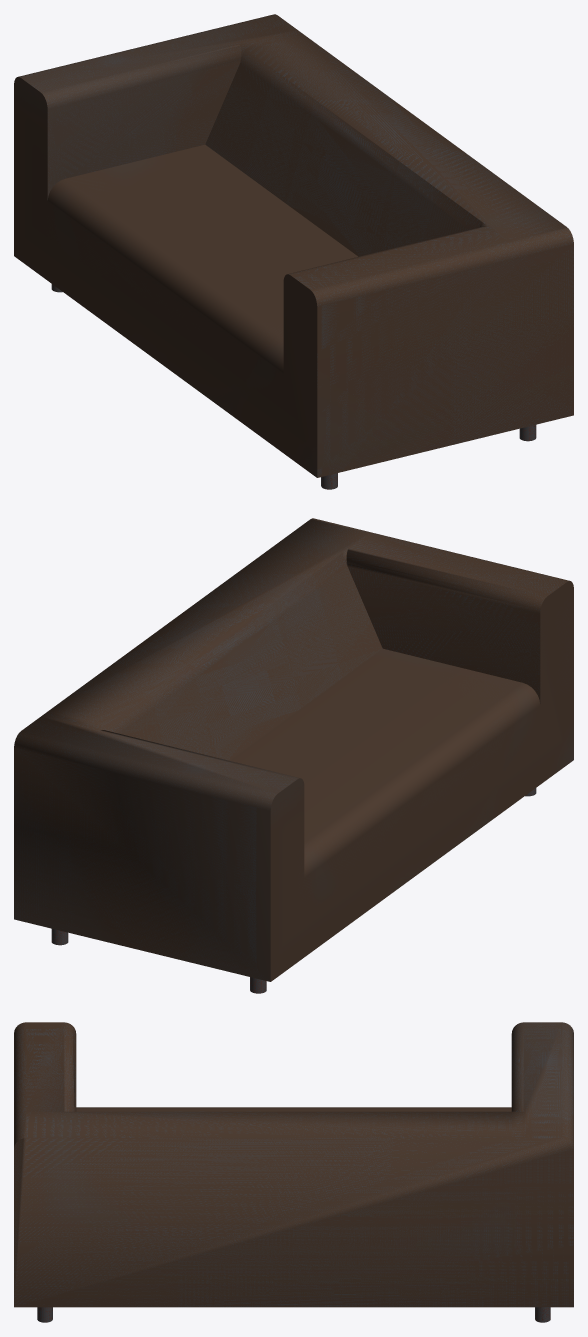
The model's file is sofa.dae.
The picture shows the model from 3 angles, top to bottom: view 1: azimuth 30°, elevation 25°; view 2: azimuth 150°, elevation 25°; view 3: azimuth 270°, elevation 25°; orthographic projection. The views are drawn at different scales.
Parts seen in each view (by area): view 1: instance_0; view 2: instance_0; view 3: instance_0.
Boxes of the visible parts, x1=… form: instance_0: x1=14, y1=14, x2=573, y2=477; instance_0: x1=14, y1=518, x2=573, y2=981; instance_0: x1=14, y1=1022, x2=573, y2=1307.
Size of the model in its own units: 0.88 by 1.8 by 0.69.
4 materials, 3 textured.
